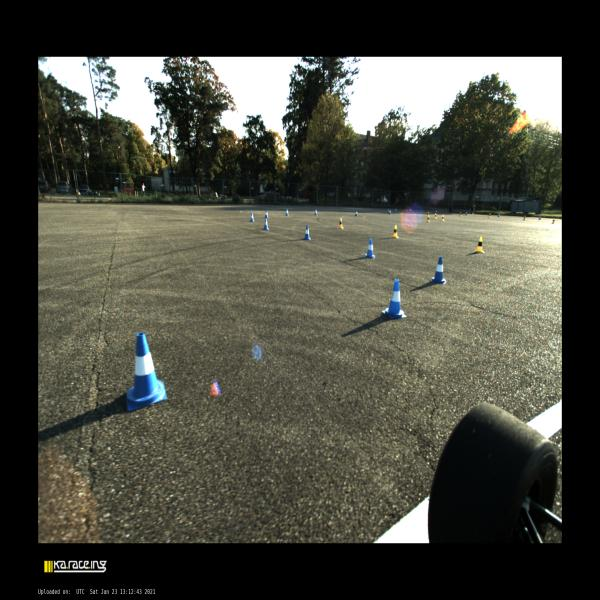blue_cone: (126, 332, 167, 410), (381, 279, 406, 318), (430, 256, 446, 284), (364, 238, 375, 258), (303, 225, 311, 240), (263, 218, 269, 230), (250, 213, 255, 222), (264, 210, 269, 219), (285, 208, 289, 216), (538, 215, 541, 220), (315, 209, 317, 215), (355, 210, 357, 216), (497, 213, 500, 217), (395, 208, 397, 212), (389, 210, 391, 214), (465, 212, 467, 215), (410, 209, 412, 212), (388, 209, 389, 213), (436, 210, 437, 213)
yellow_cone: (474, 236, 484, 253), (392, 225, 398, 238), (338, 218, 344, 228), (426, 215, 430, 222), (441, 214, 444, 222), (551, 218, 555, 224), (522, 215, 526, 221), (426, 211, 430, 217), (434, 213, 437, 219), (488, 213, 491, 218), (459, 212, 462, 216)
